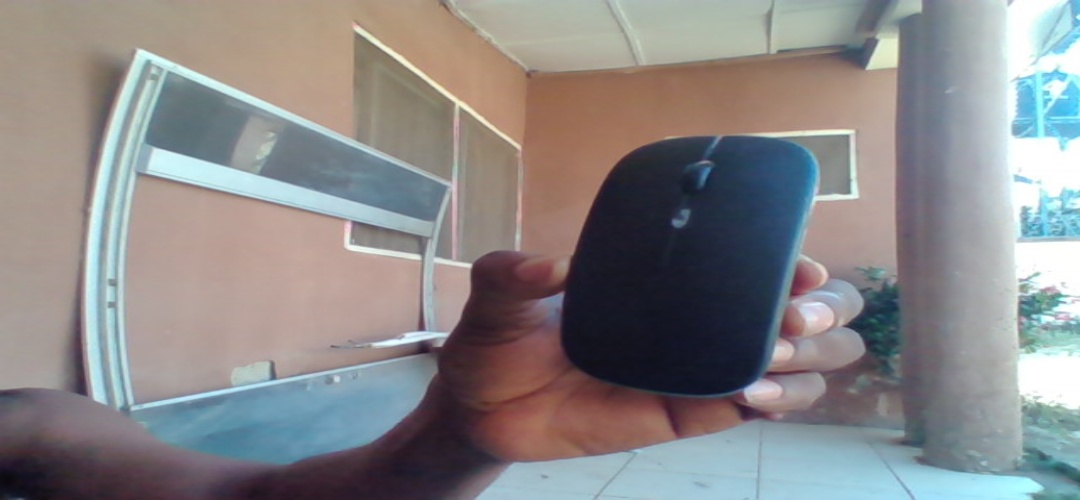wireless_mouse: (561, 127, 820, 400)
